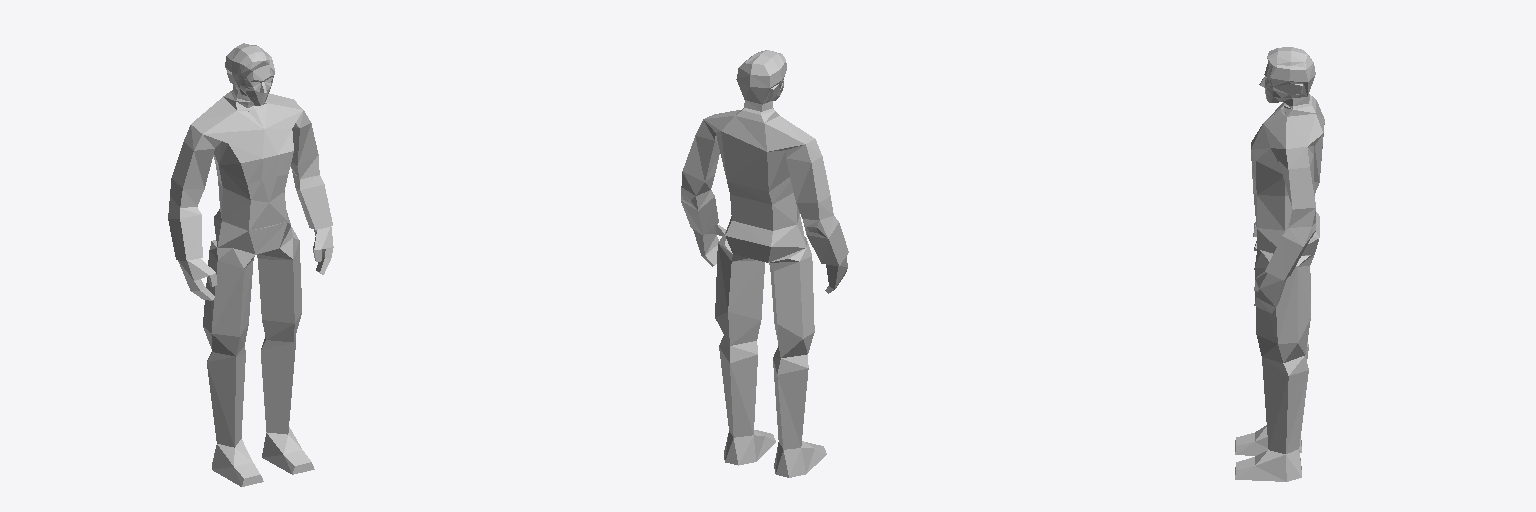
Rendered from Manuel118.obj.
The picture shows the model from 3 angles: view 1: azimuth 30°, elevation 25°; view 2: azimuth 150°, elevation 25°; view 3: azimuth 270°, elevation 25°; orthographic projection.
Parts seen in each view (by area): view 1: leon; view 2: leon; view 3: leon.
Part boxes in pixels (x1,y1,x2,y2): leon: (168,43,333,486); leon: (681,50,848,477); leon: (1235,47,1324,481).
Bounding box in the file's own units: 4.68 × 12.19 × 2.41.